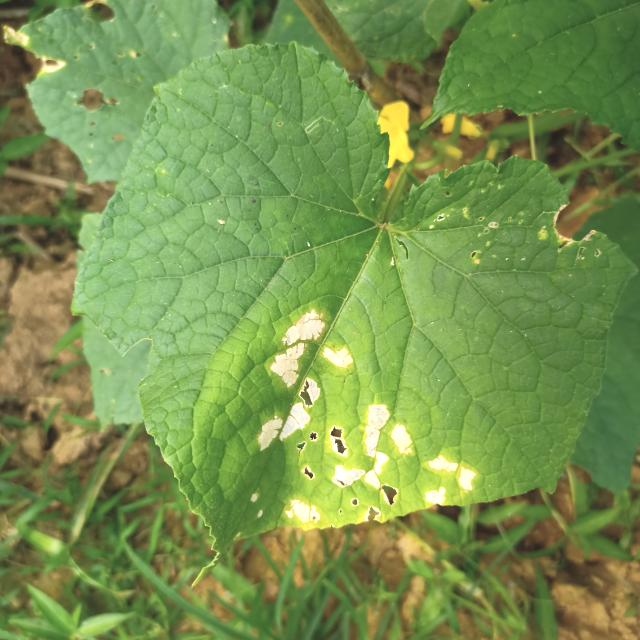disease_cucumber: (254, 303, 484, 531)
